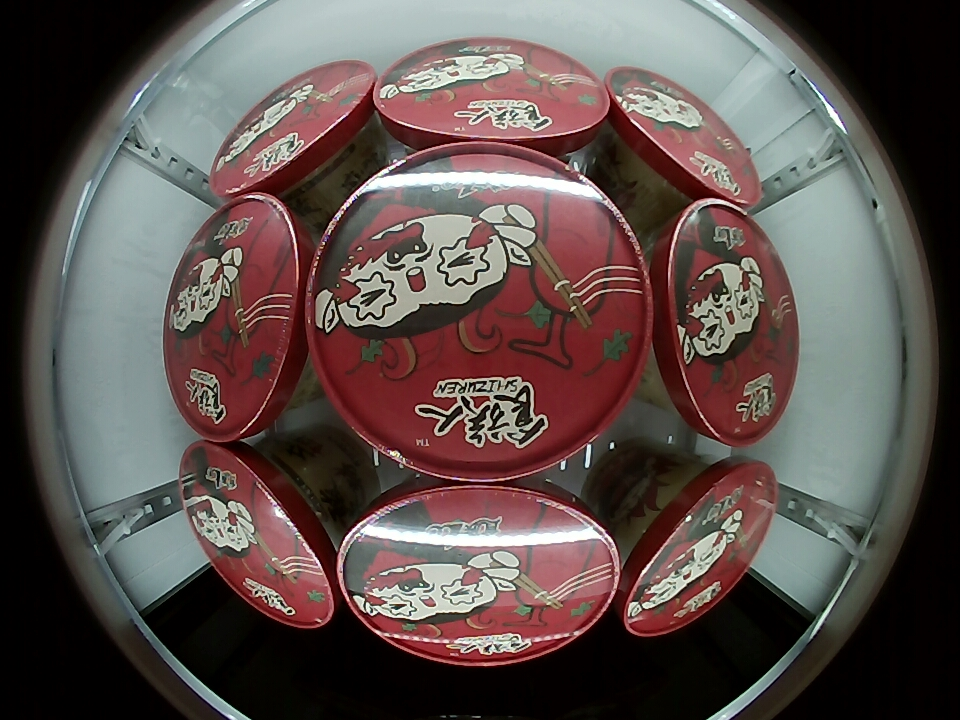suanlafen: (306, 141, 653, 479), (336, 476, 621, 668), (648, 198, 800, 446), (163, 192, 313, 442), (180, 441, 342, 629), (616, 456, 778, 636), (372, 36, 610, 157), (210, 61, 379, 201), (601, 66, 761, 210)
